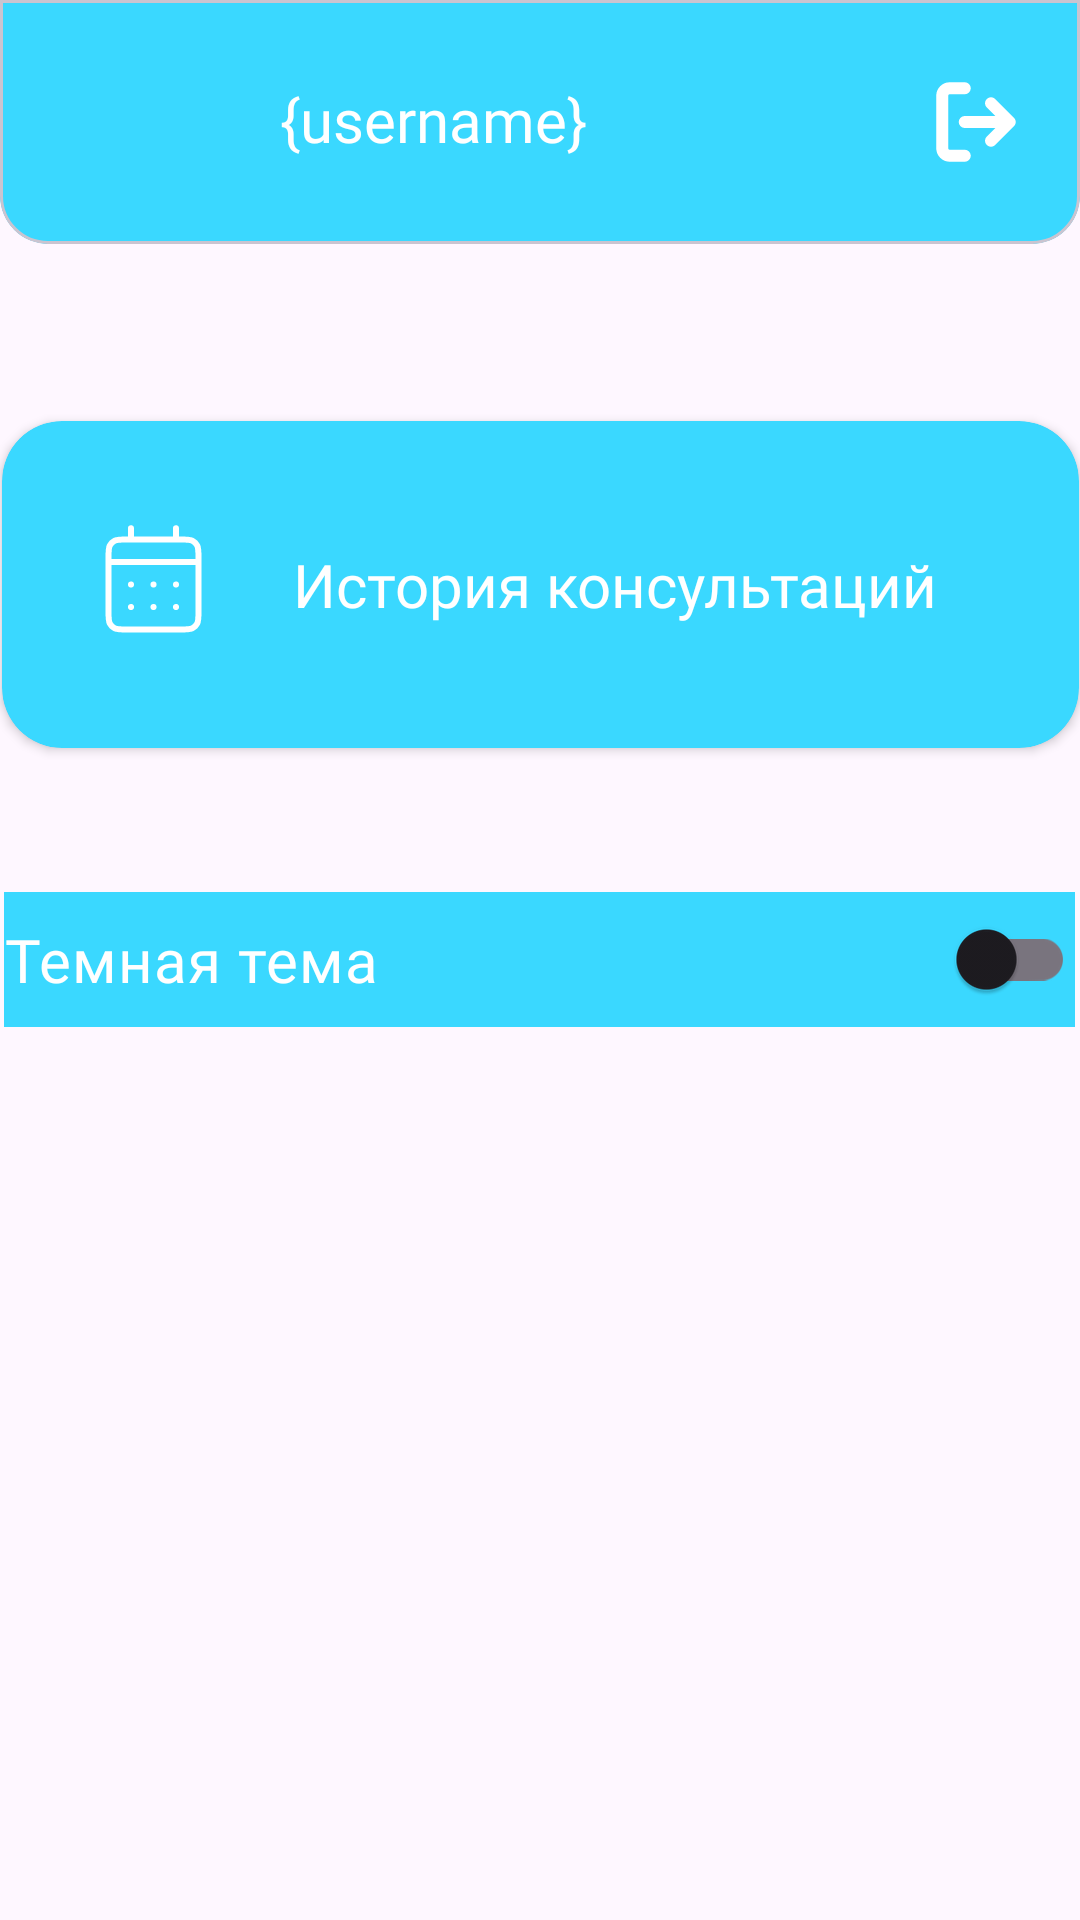

Icon bounding boxes for this 1080px x 1920px phone screenshot, format (x1, y1, x2, y2):
calendar: (105, 525, 202, 633)
log out: (936, 82, 1016, 162)
